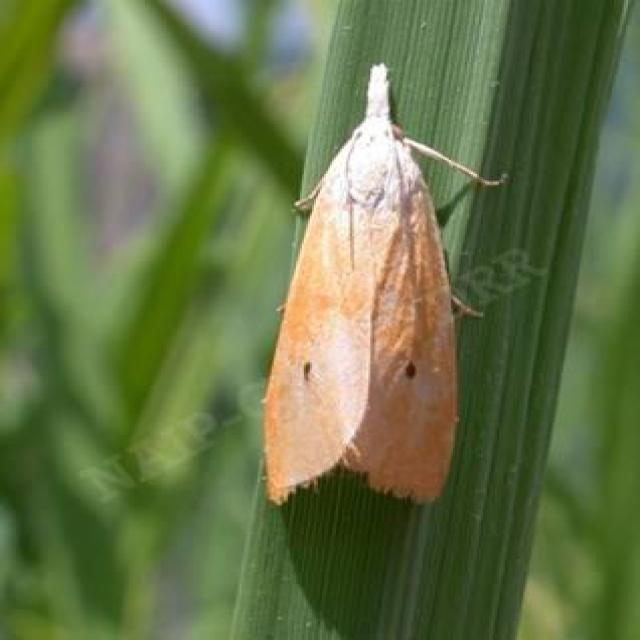yellow-stem-borer: (206, 58, 534, 535)
